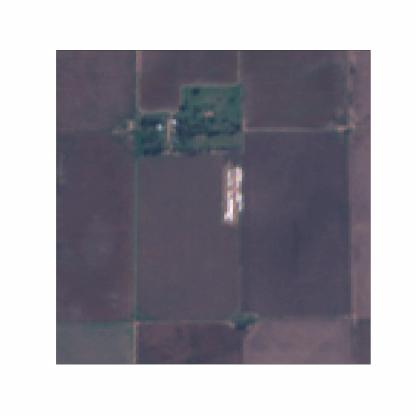silobolsa: (225, 170, 233, 225), (234, 166, 244, 208)
